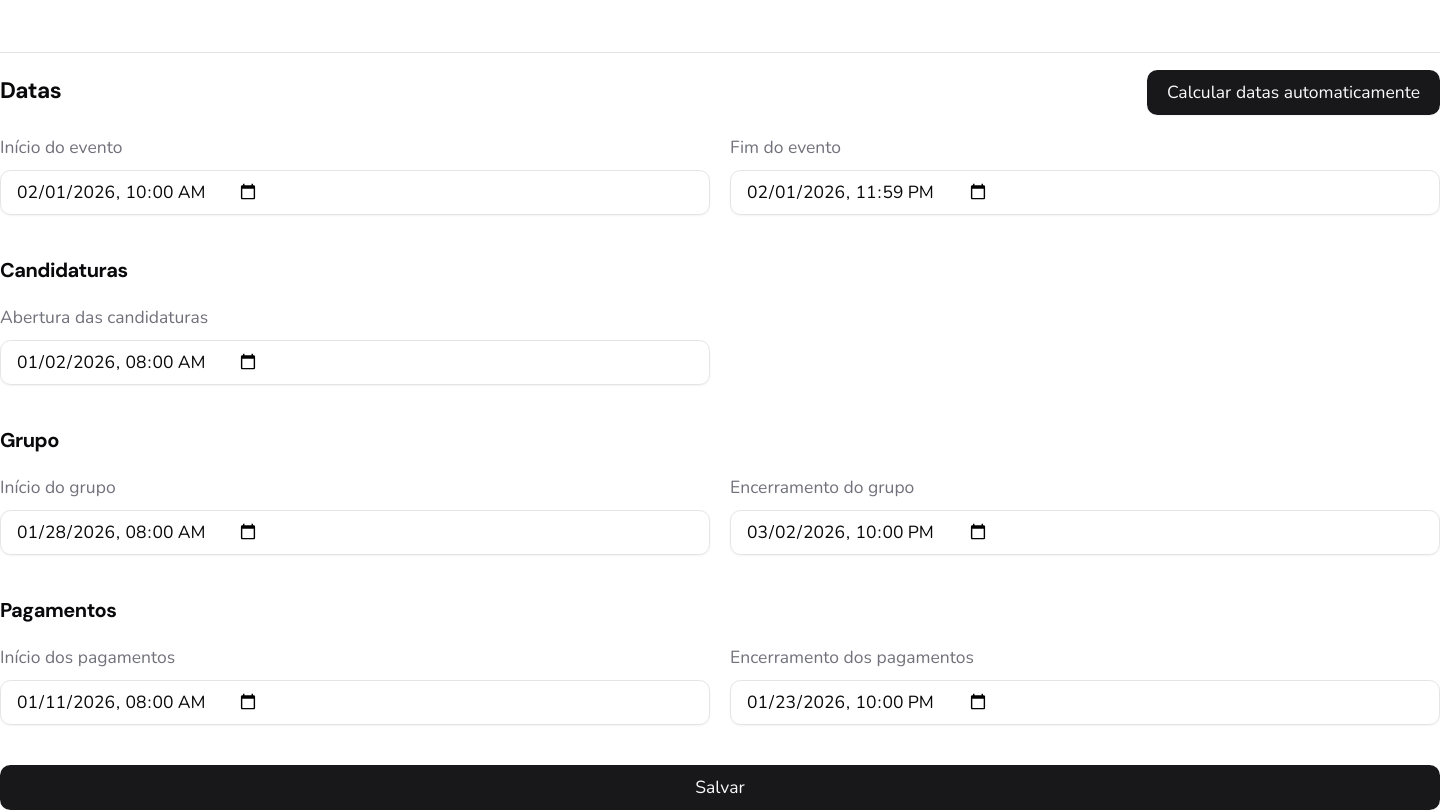
EventForm › saving › shows a refusal under the question it belongs to
(page scrolled)
What coordinates should you click on to do the following:
click the button "Salvar"
I would click on:
 (720, 787)
Its box is [0, 764, 1439, 809].
(page scrolled)
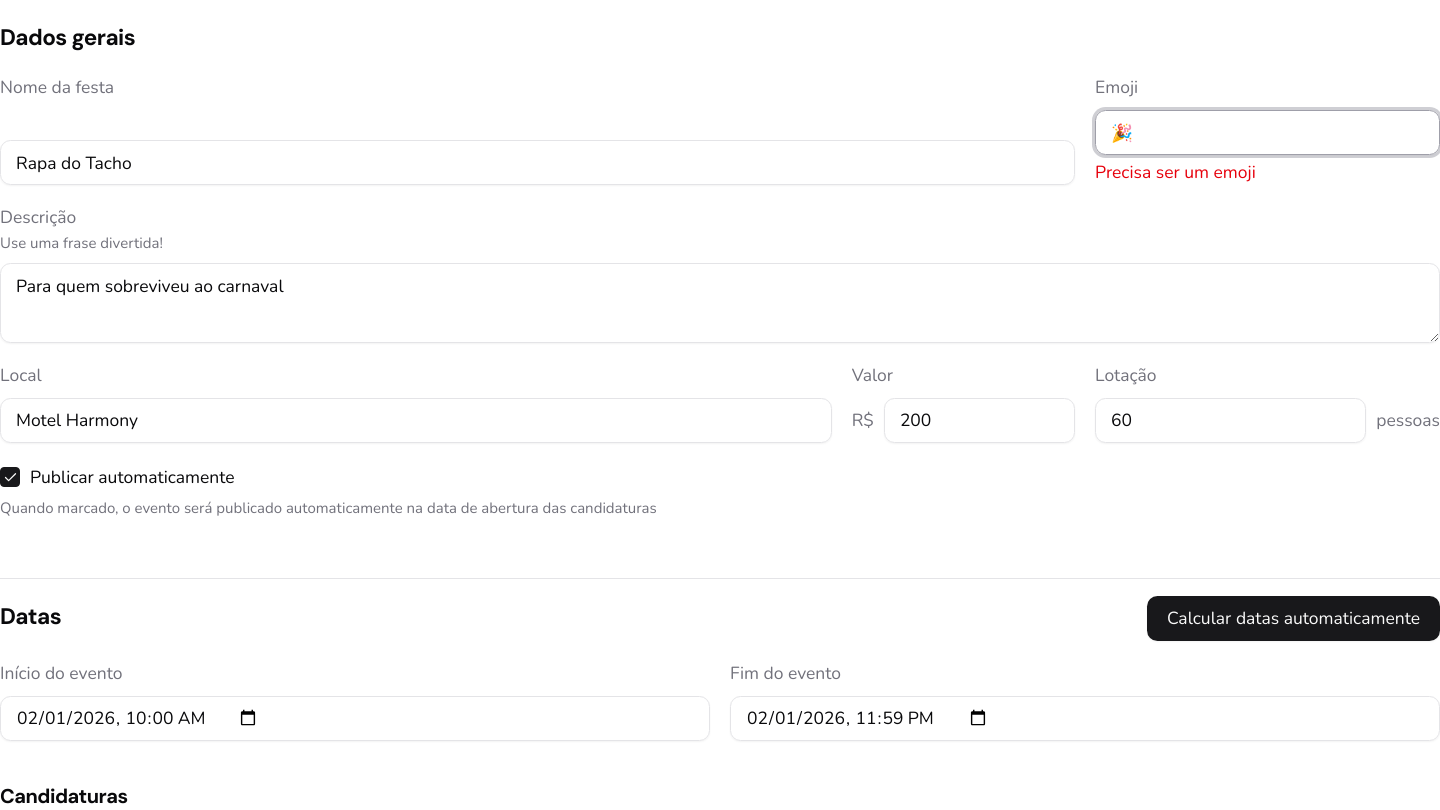
Expected: the text "Precisa ser um emoji" is shown, [1095, 160, 1256, 184]
